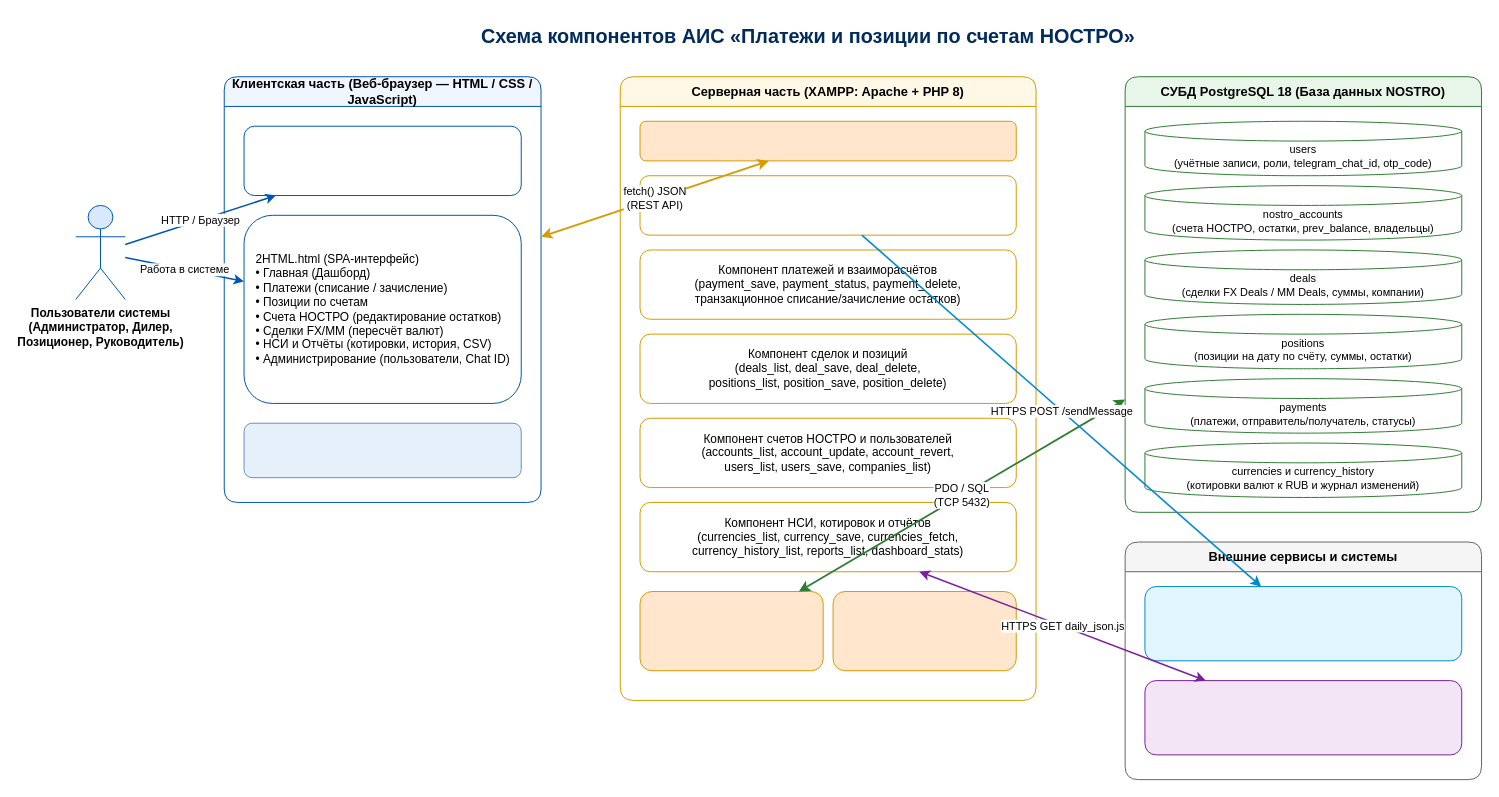
Some shapes in this 1499 by 797 pixel diagram are drawn without their labels. Here are the shapes that lost their labels. From the top down, the centre of each, then its label:
At [382,160]: "1Login.html Модуль авторизации и 2FA (логин/пароль + ввод OTP-кода)".
At [827,140]: "api.php — Единый REST/JSON API-маршрутизатор".
At [827,205]: "Компонент авторизации и 2FA (login, verify_otp, генерация OTP)".
At [382,450]: "SessionStorage (auth_user) и модальное редактирование".
At [731,631]: "db.php Слой доступа к БД (PDO / pdo_pgsql)".
At [924,631]: "telegram_config.php Конфигурация токена бота (2FA)".
At [1303,623]: "Telegram Bot API (api.telegram.org) Отправка 6-значных OTP-кодов 2FA".
At [1303,717]: "Сервис котировок ЦБ РФ (cbr-xml-daily.ru) Курсы USD / EUR / CNY к RUB".
